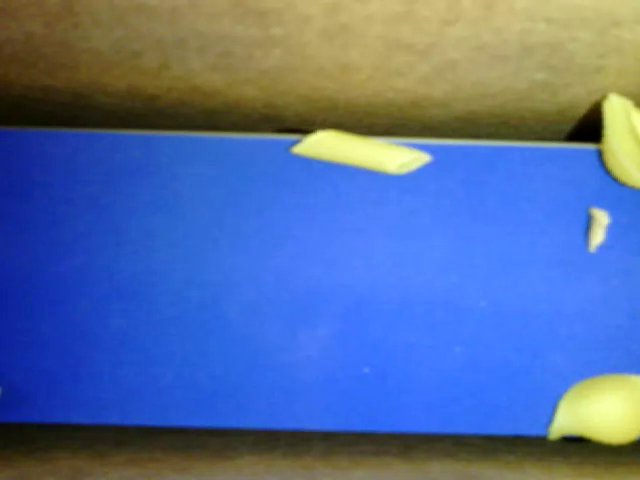penne: (290, 128, 433, 175)
shell: (547, 373, 639, 445), (600, 92, 639, 187)
